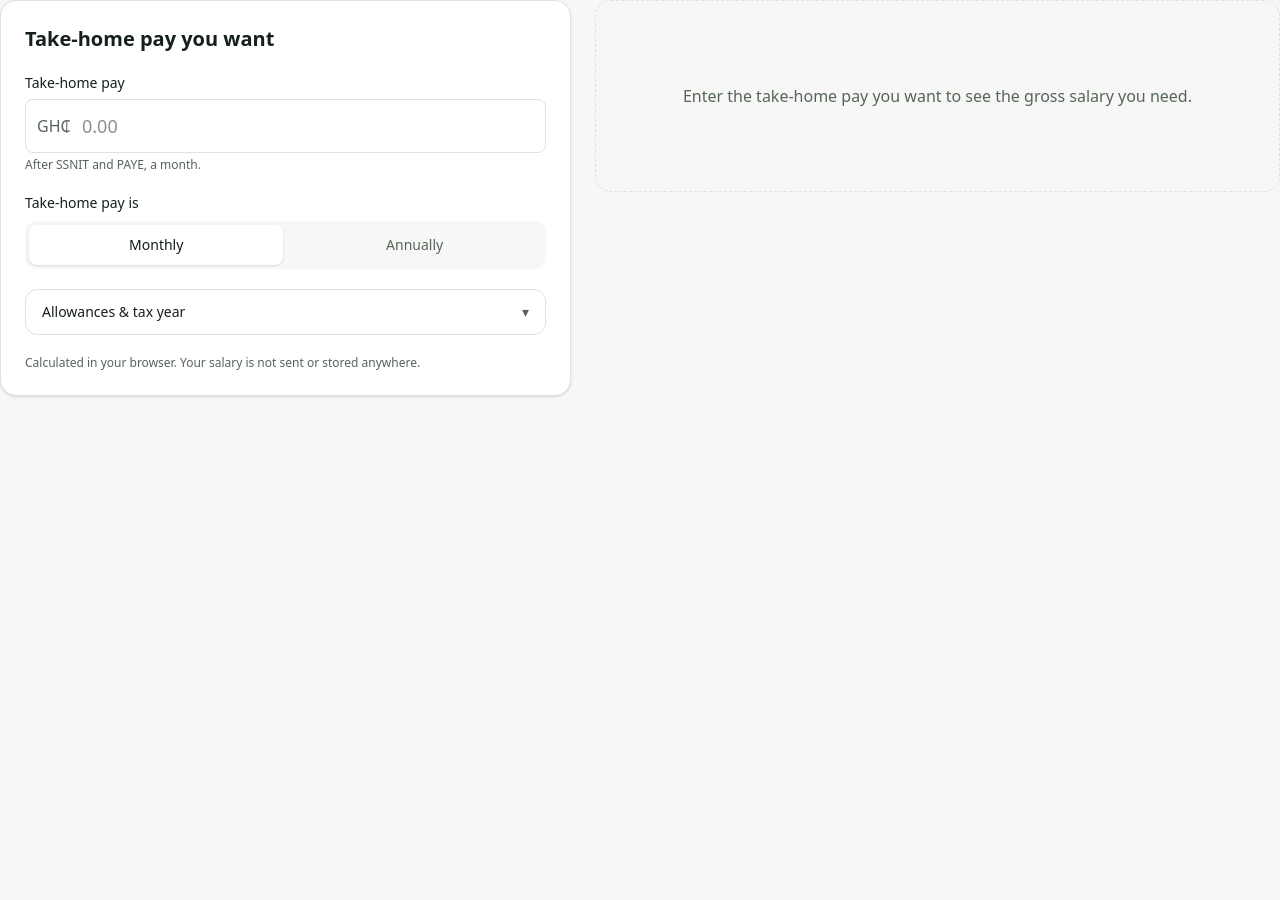
it: NetToGrossCalculator › solves an annual target
Click the radio button labelled "Annually". click: [415, 244]
box: [386,235,443,254]
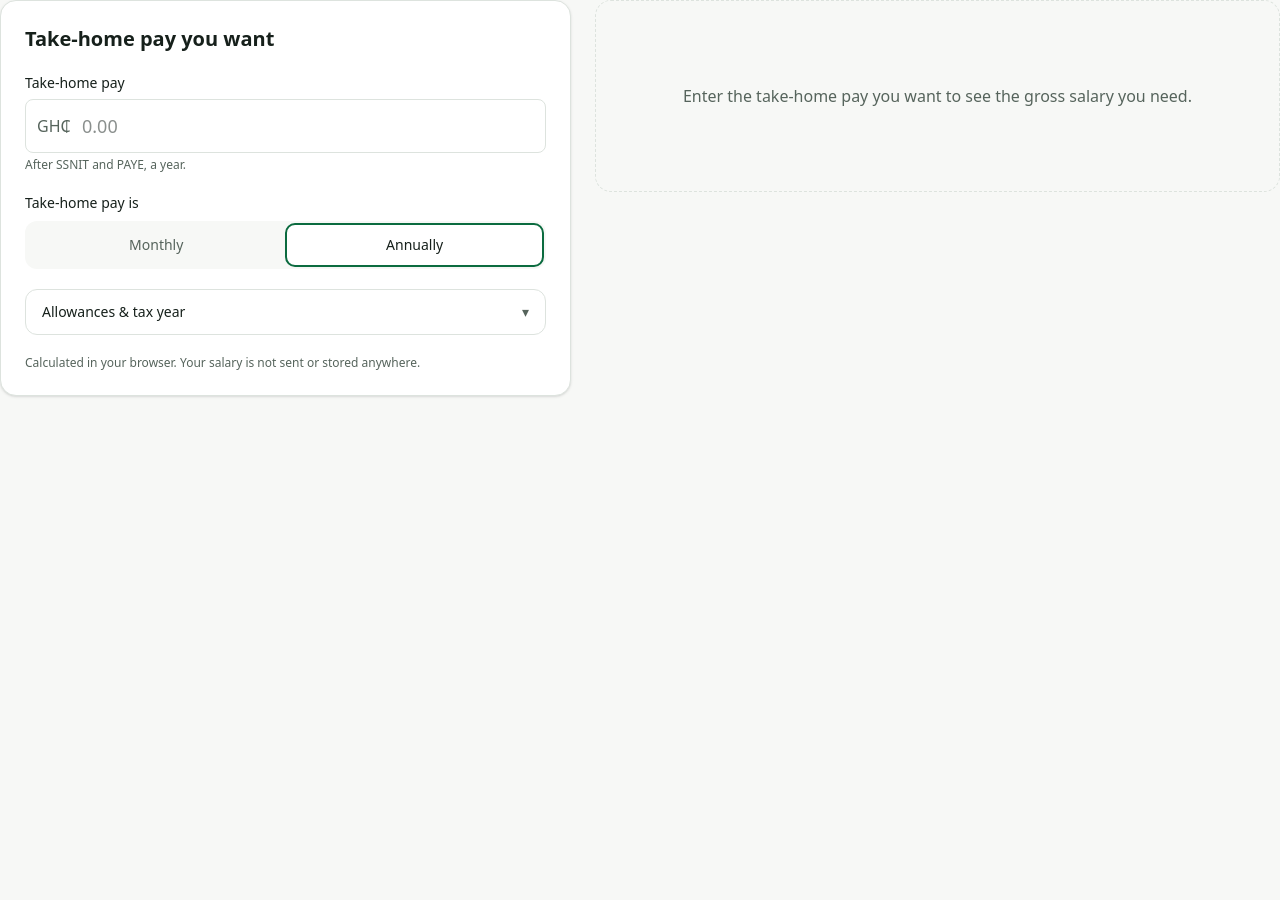
Type "47343" into the field labelled "Take-home pay". click: [285, 126]
box: [25,99,546,153]
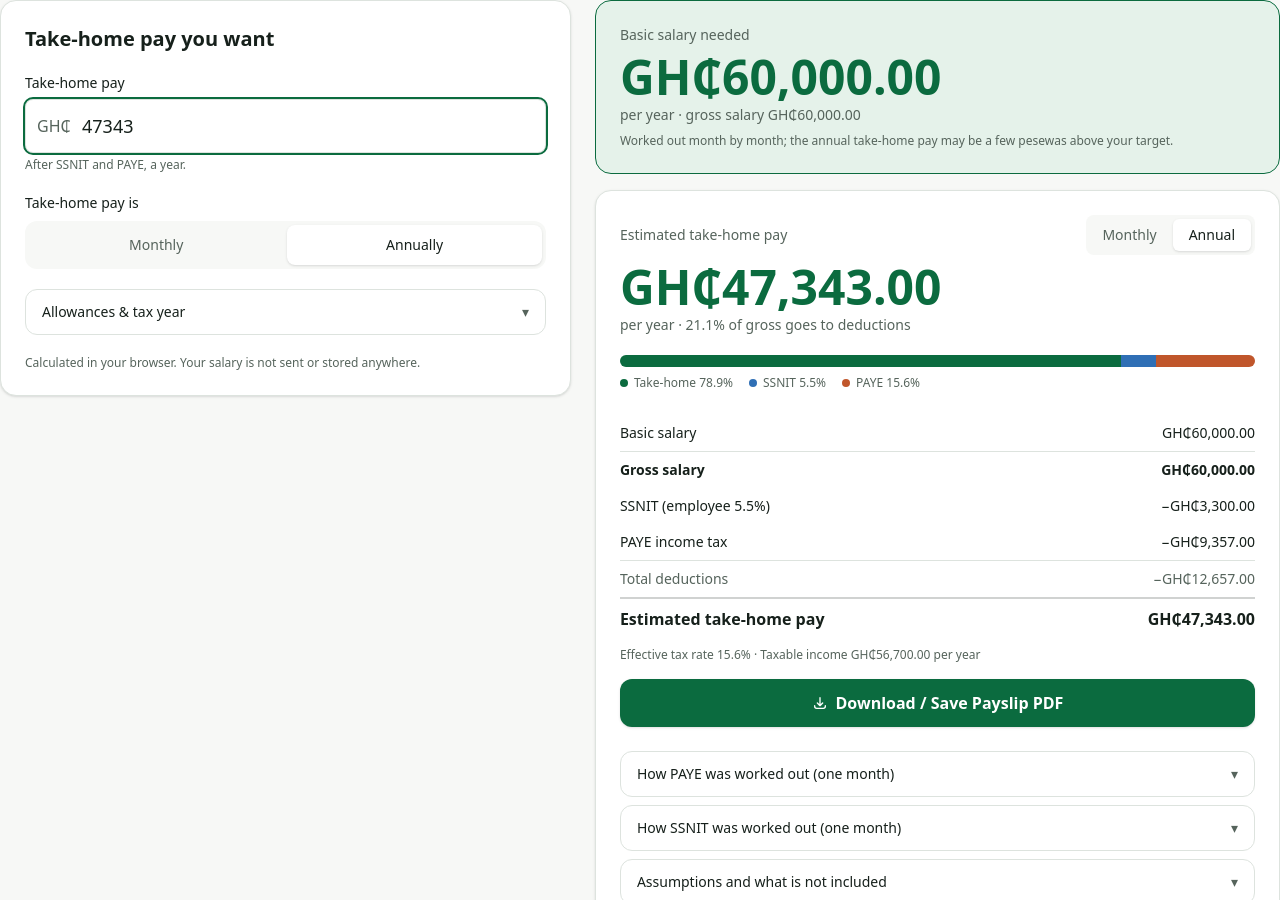
Expected: the text with test id "required-basic" reads "GH₵60,000.00", [620,44,942,109]
